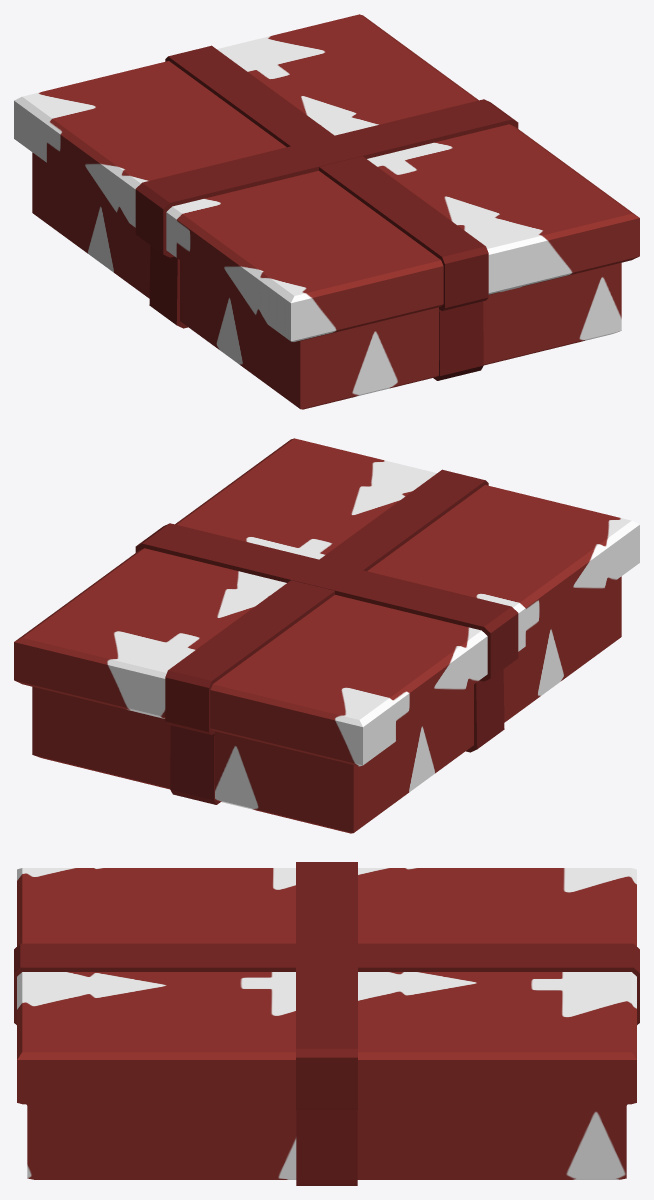
File: PresentBox_RectangularLarge_01.fbx
The picture shows the model from 3 angles, top to bottom: view 1: azimuth 30°, elevation 25°; view 2: azimuth 150°, elevation 25°; view 3: azimuth 270°, elevation 25°; orthographic projection. The views are drawn at different scales.
Visible parts, largest first — view 1: PresentBox_RectangularLarge_01_Top, PresentBox_RectangularLarge_01; view 2: PresentBox_RectangularLarge_01_Top, PresentBox_RectangularLarge_01; view 3: PresentBox_RectangularLarge_01_Top, PresentBox_RectangularLarge_01.
Boxes of the visible parts, left/top/right/bottom form: PresentBox_RectangularLarge_01_Top: left=14, top=14, right=639, bottom=342; PresentBox_RectangularLarge_01: left=32, top=152, right=621, bottom=409; PresentBox_RectangularLarge_01_Top: left=14, top=438, right=639, bottom=766; PresentBox_RectangularLarge_01: left=32, top=576, right=621, bottom=833; PresentBox_RectangularLarge_01_Top: left=14, top=862, right=639, bottom=1109; PresentBox_RectangularLarge_01: left=26, top=1104, right=627, bottom=1185.
Size of the model in its own units: 0.3795 by 0.1319 by 0.5175.
